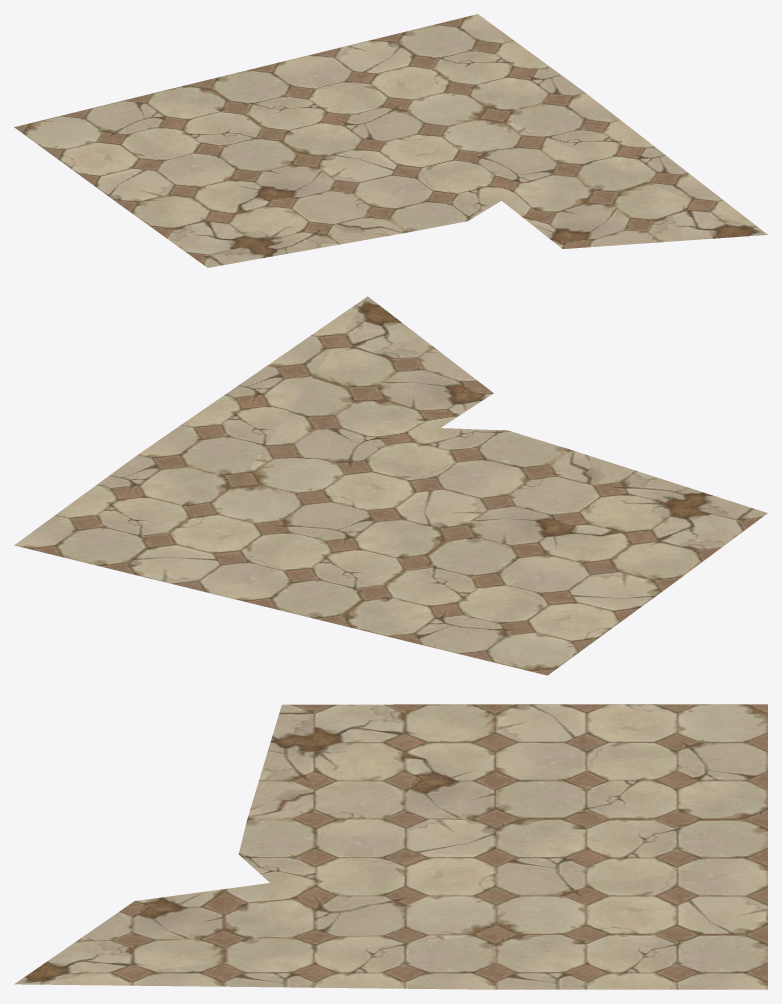
File: Ground20_Terrain_LostTemple_001.FBX
The picture shows the model from 3 angles, top to bottom: view 1: azimuth 30°, elevation 25°; view 2: azimuth 150°, elevation 25°; view 3: azimuth 270°, elevation 25°; orthographic projection. The views are drawn at different scales.
Visible parts, largest first — view 1: Ground20_Terrain_LostTemple_001; view 2: Ground20_Terrain_LostTemple_001; view 3: Ground20_Terrain_LostTemple_001.
Boxes of the visible parts, left/top/right/bottom form: Ground20_Terrain_LostTemple_001: left=14, top=14, right=767, bottom=267; Ground20_Terrain_LostTemple_001: left=14, top=296, right=767, bottom=675; Ground20_Terrain_LostTemple_001: left=14, top=704, right=767, bottom=989.
Size of the model in its own units: 624 by 13.93 by 696.
Materials: 1 (1 with a texture image).
